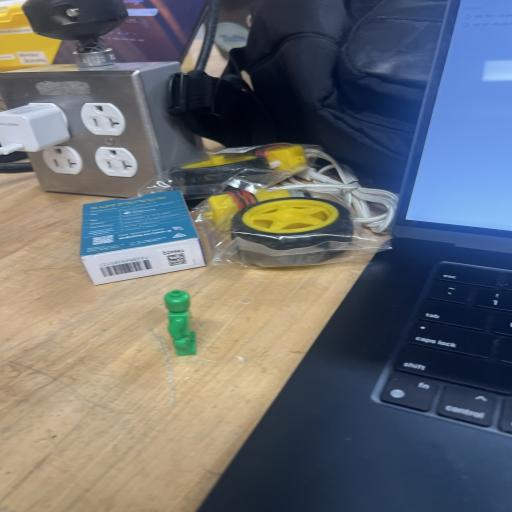green-lego-minifigure-detector: (164, 290, 196, 356)
